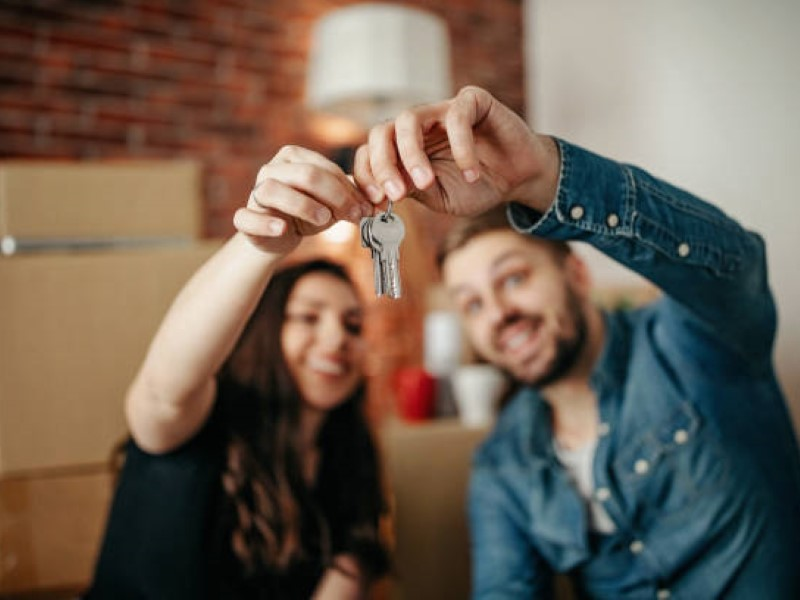key: (357, 199, 408, 302)
